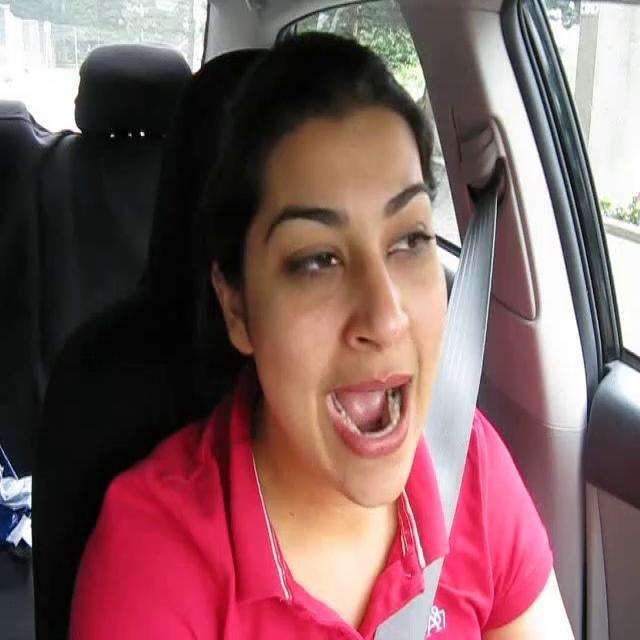open-mouth: (320, 369, 418, 461)
